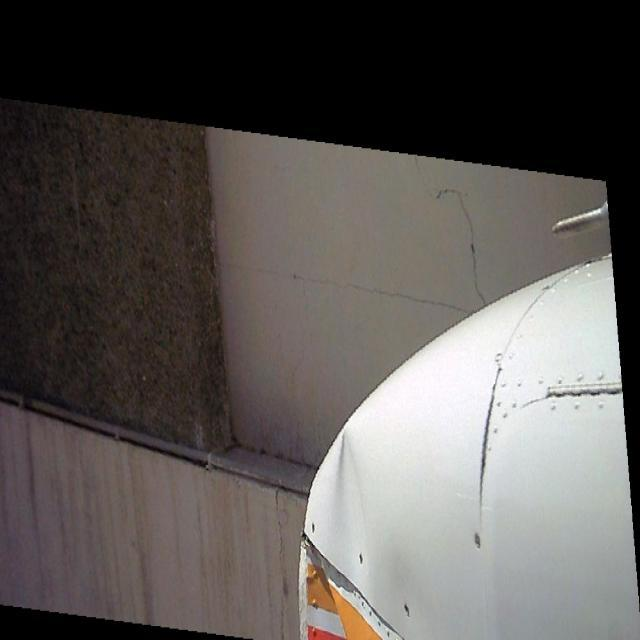dent: (298, 425, 376, 640)
